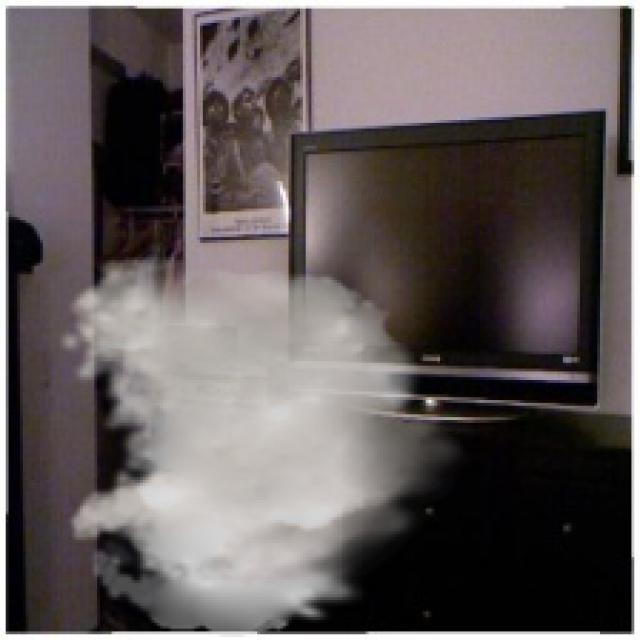Smoke: (57, 254, 472, 637)
